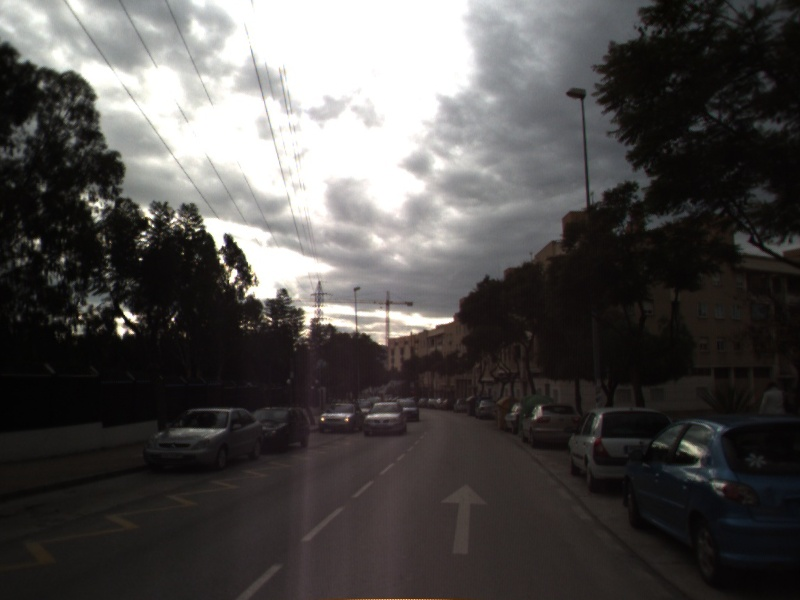STRAIGHT: (439, 481, 490, 556)
